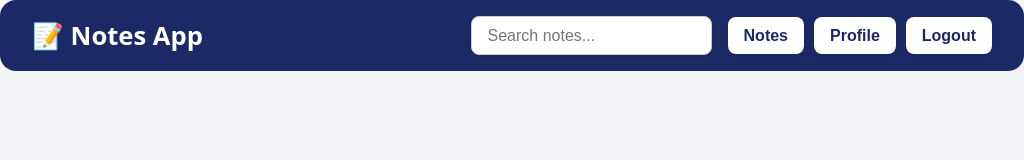
Test case: Navbar Component › filters and displays matching notes in dropdown
This screenshot has width=1024, height=160.
Type "react" into the field with placeholder "Search notes..." at (591, 36), box [470,16,712,55]
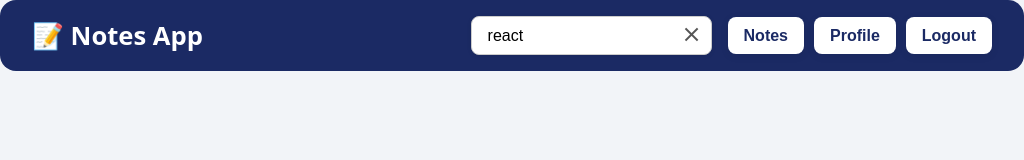
Focus the field with placeholder "Search notes..." at (591, 36), box [470,16,712,55]
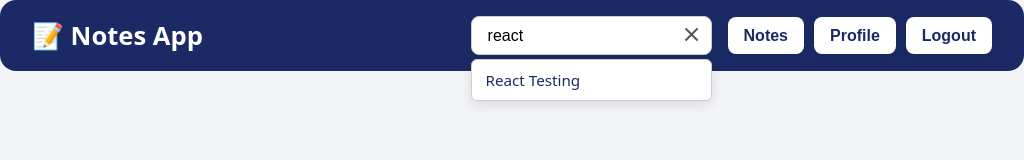
Check: the list item "React Testing" is shown, box [486,70,580,90]
